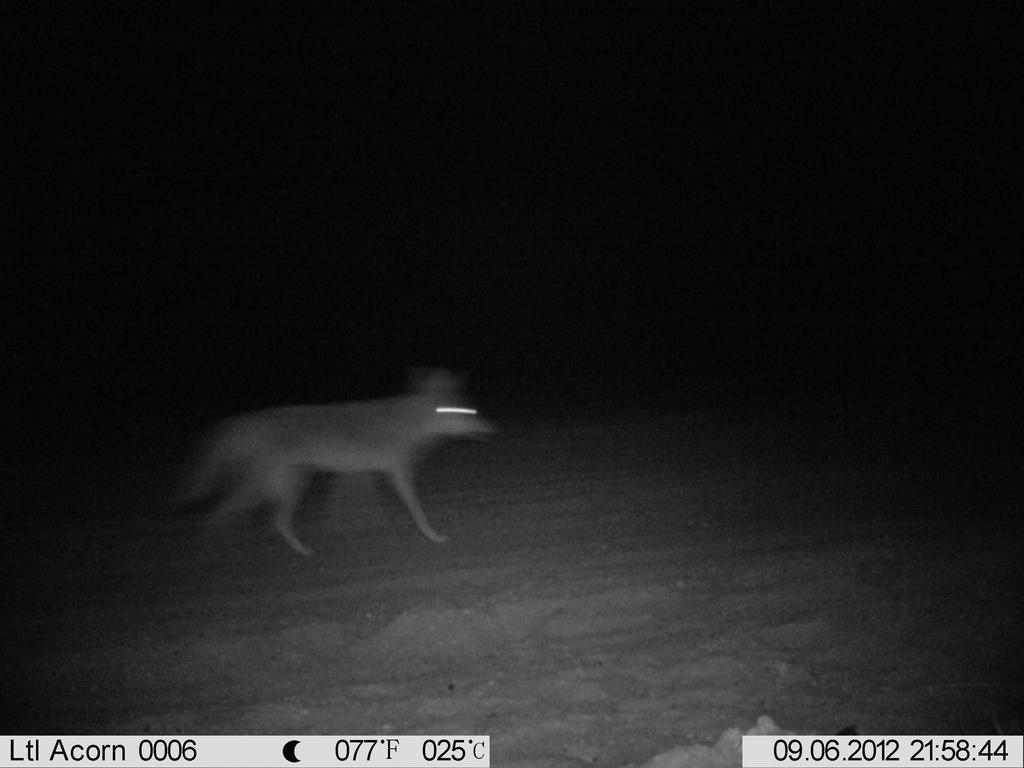coyote: (167, 370, 498, 564)
